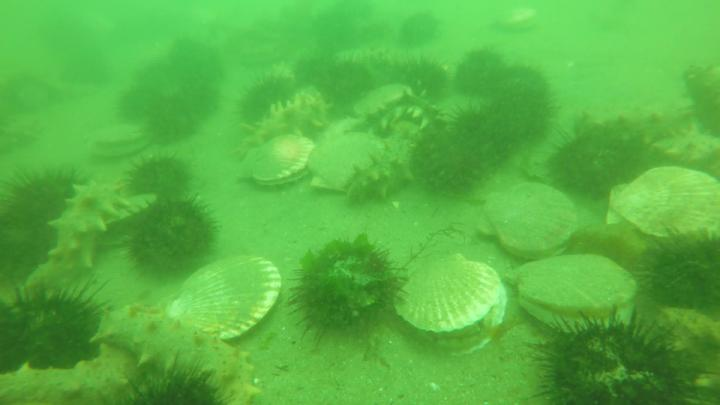echinus: (528, 306, 704, 405), (288, 234, 405, 348), (1, 281, 102, 367), (543, 122, 659, 195), (125, 196, 220, 285), (641, 224, 720, 308), (409, 122, 491, 199), (1, 167, 81, 237), (438, 102, 522, 166), (115, 361, 223, 405), (125, 153, 193, 206), (236, 72, 303, 120), (454, 46, 511, 102), (316, 56, 373, 109), (494, 63, 556, 111), (391, 53, 452, 101), (166, 35, 225, 82), (170, 75, 222, 125), (290, 49, 342, 91), (149, 101, 196, 145), (119, 83, 168, 123), (398, 10, 445, 48)
holothurian: (93, 304, 264, 405), (1, 344, 143, 405), (44, 176, 118, 276), (567, 221, 670, 289), (344, 116, 423, 201), (656, 305, 720, 404), (237, 89, 328, 157), (581, 95, 699, 142), (652, 129, 720, 180), (683, 59, 720, 127)
scallop: (394, 252, 508, 363), (507, 255, 642, 340), (166, 252, 284, 344), (607, 162, 720, 240), (481, 181, 585, 260), (305, 131, 386, 195), (232, 133, 318, 189), (96, 193, 158, 247), (86, 124, 156, 162), (355, 84, 415, 120), (499, 5, 541, 36)
